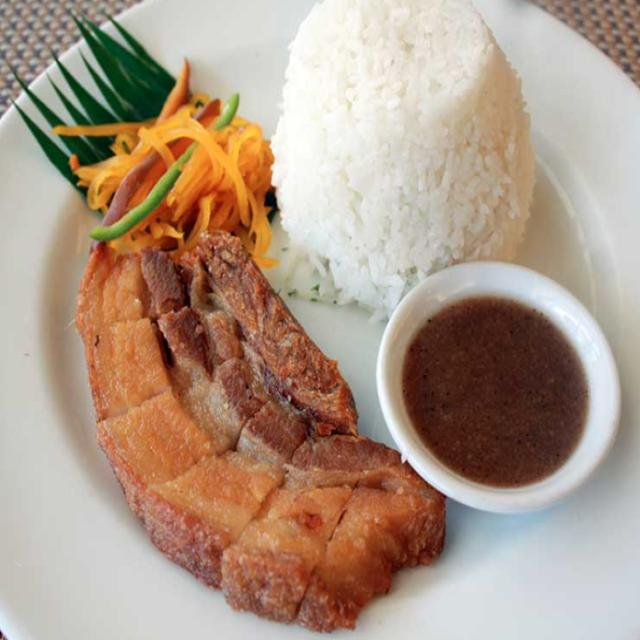Carbohydrate: (278, 2, 538, 316)
Kaow-Crispymoo: (1, 0, 640, 640)
Protein: (74, 236, 447, 632)
Vegetable: (10, 10, 276, 241)
